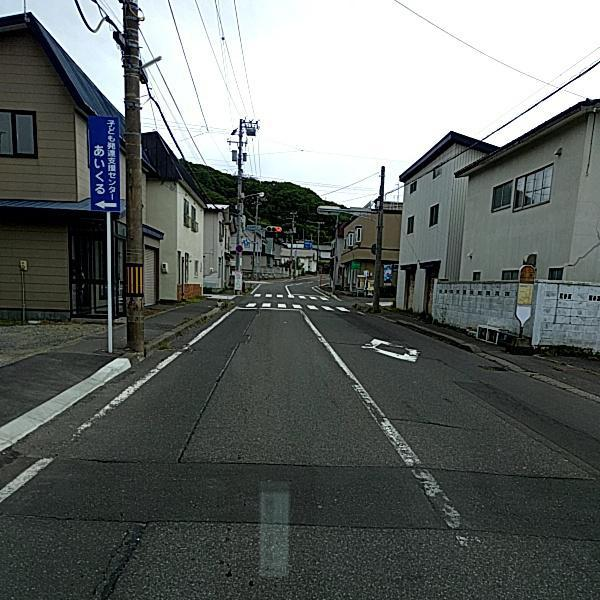D10: (384, 410, 475, 433), (326, 337, 367, 349)
D44: (3, 314, 223, 500), (302, 309, 467, 543), (360, 331, 424, 371)
